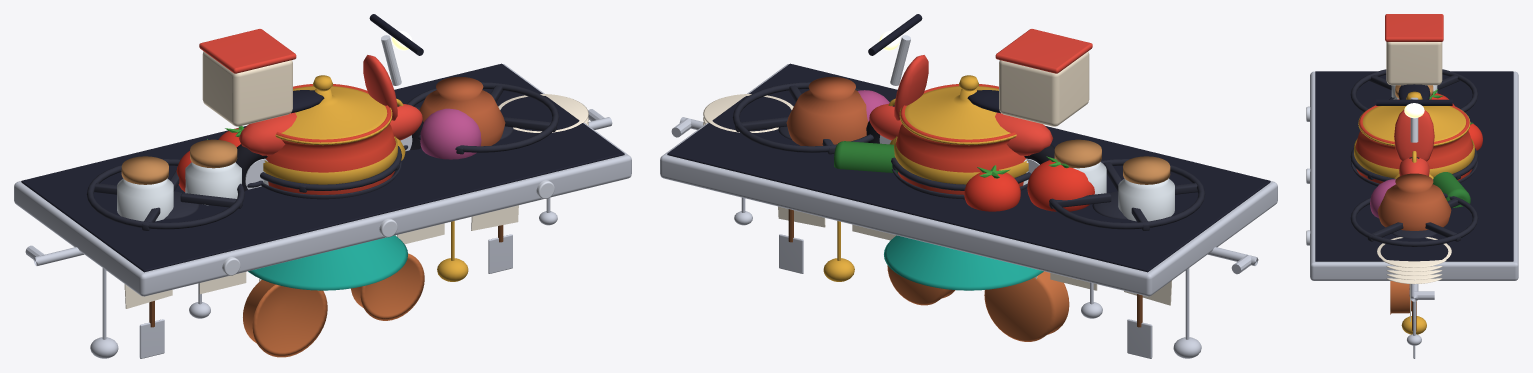
Rendered from props.glb.
3 views of the same model, side by side, from view 1: azimuth 30°, elevation 25°; view 2: azimuth 150°, elevation 25°; view 3: azimuth 270°, elevation 25° (orthographic). The views are drawn at different scales.
Visible parts, largest first — view 1: stove_top, stove_body, lamp_shade, cpan_body, crate, pot_body, pot_lid, matka, cpan_body.001, crate_lid, onion, jar (+27 smaller); view 2: stove_top, stove_body, lamp_shade, crate, matka, pot_body, cpan_body, pot_lid, crate_lid, tomato, jar, tomato.001 (+24 smaller); view 3: stove_top, stove_body, matka, pot_body, crate, pot_lid, crate_lid, shield, grate_ring.002, pot_band, grate_ring, cucumber (+19 smaller).
Boxes of the visible parts, x1=… form: stove_top: x1=21, y1=63, x2=624, y2=272; stove_body: x1=14, y1=64, x2=631, y2=296; lamp_shade: x1=248, y1=235, x2=407, y2=290; cpan_body: x1=243, y1=280, x2=327, y2=357; crate: x1=202, y1=51, x2=292, y2=126; pot_body: x1=265, y1=84, x2=395, y2=194; pot_lid: x1=275, y1=86, x2=392, y2=145; matka: x1=419, y1=76, x2=505, y2=146; cpan_body.001: x1=351, y1=253, x2=424, y2=320; crate_lid: x1=199, y1=29, x2=296, y2=73; onion: x1=420, y1=108, x2=481, y2=159; jar: x1=117, y1=178, x2=173, y2=221; stove_top: x1=667, y1=63, x2=1270, y2=272; stove_body: x1=660, y1=64, x2=1277, y2=296; lamp_shade: x1=884, y1=235, x2=1043, y2=290; crate: x1=999, y1=51, x2=1089, y2=126; matka: x1=786, y1=76, x2=868, y2=146; pot_body: x1=896, y1=84, x2=1026, y2=194; cpan_body: x1=984, y1=271, x2=1069, y2=341; pot_lid: x1=899, y1=86, x2=1016, y2=145; crate_lid: x1=995, y1=29, x2=1092, y2=73; tomato: x1=1027, y1=160, x2=1094, y2=211; jar: x1=1118, y1=178, x2=1174, y2=221; tomato.001: x1=964, y1=169, x2=1020, y2=211; stove_top: x1=1315, y1=71, x2=1513, y2=261; stove_body: x1=1310, y1=71, x2=1518, y2=280; matka: x1=1377, y1=173, x2=1451, y2=230; pot_body: x1=1355, y1=99, x2=1473, y2=183; crate: x1=1386, y1=41, x2=1442, y2=85; pot_lid: x1=1358, y1=106, x2=1470, y2=146; crate_lid: x1=1385, y1=14, x2=1443, y2=41; shield: x1=1394, y1=109, x2=1434, y2=161; grate_ring.002: x1=1350, y1=193, x2=1478, y2=246; pot_band: x1=1354, y1=138, x2=1474, y2=178; grate_ring: x1=1350, y1=69, x2=1478, y2=112; cucumber: x1=1433, y1=172, x2=1470, y2=207.
Size of the model in its own units: 4.2 by 2.13 by 1.67.
